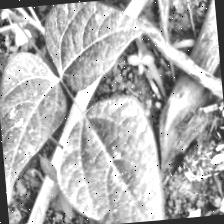ALS: (49, 93, 166, 224), (0, 49, 74, 202)
